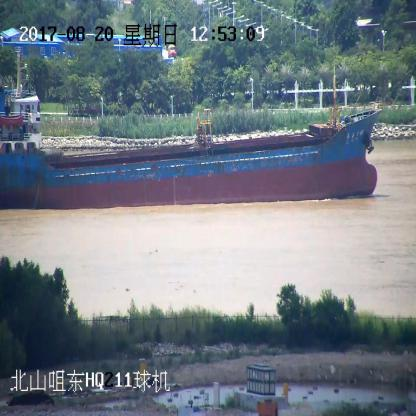Bulk Carrier: (0, 66, 378, 211)
